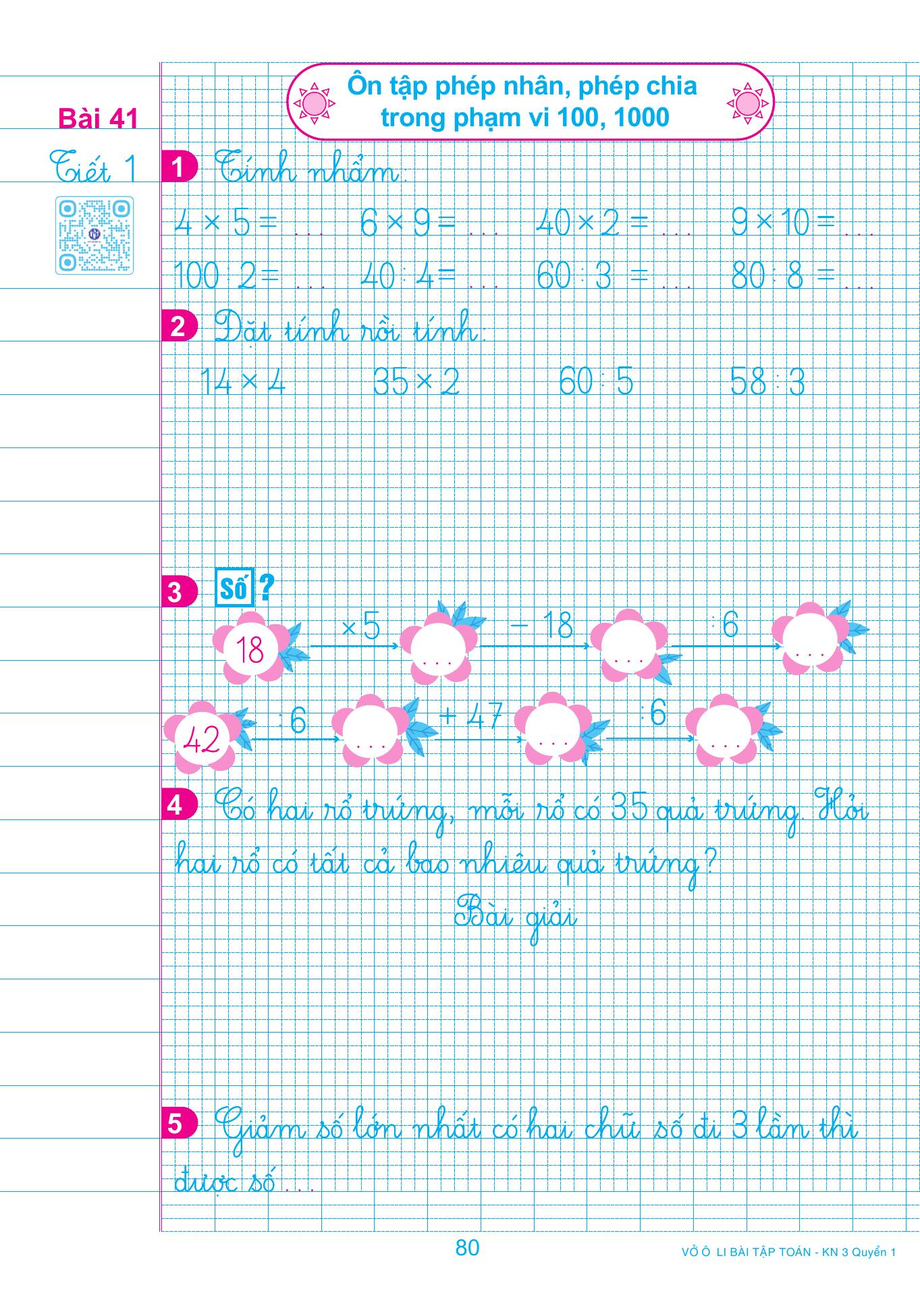None: (159, 1102, 920, 1192), (159, 65, 920, 148)
Tự luận: (161, 785, 920, 1095)
Điền từ: (156, 564, 920, 780), (159, 141, 920, 300)
Đặt tính rồi tính: (157, 306, 920, 561)
